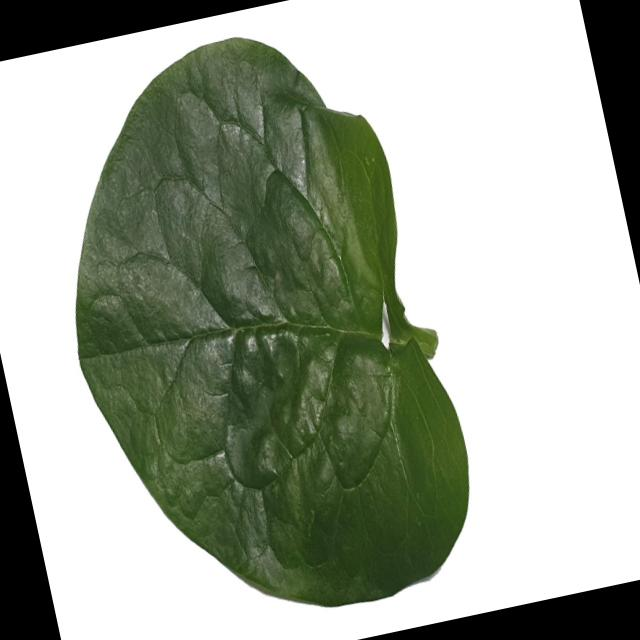Medicinal-Basale: (19, 5, 492, 640)
